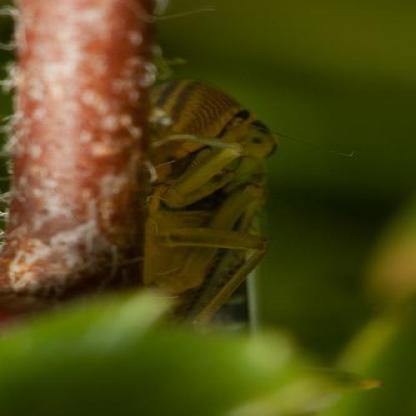Green-Leafhopper: (127, 55, 287, 373)
